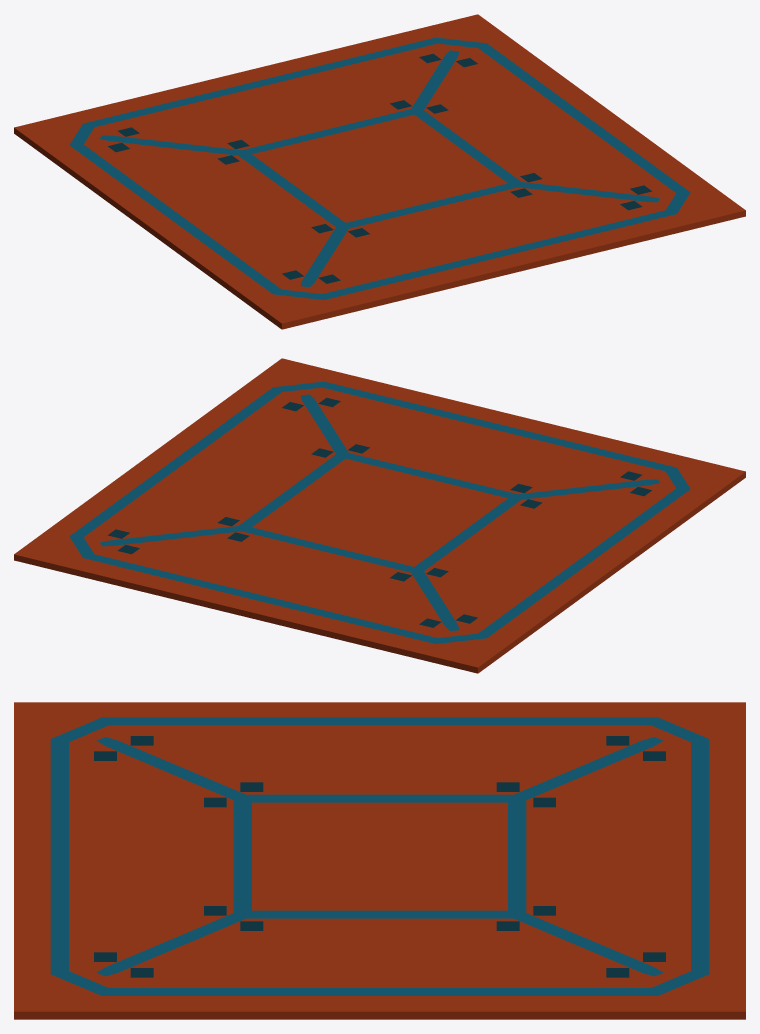
File: Tile_1-2.fbx
3 views of the same model, one above another, from view 1: azimuth 30°, elevation 25°; view 2: azimuth 150°, elevation 25°; view 3: azimuth 270°, elevation 25° (orthographic). The views are drawn at different scales.
Visible parts, largest first — view 1: Tile_1-2; view 2: Tile_1-2; view 3: Tile_1-2.
Part boxes in pixels (box(x1,y1,x2,y2)): Tile_1-2: box(14, 14, 745, 329); Tile_1-2: box(14, 358, 745, 673); Tile_1-2: box(14, 702, 745, 1019).
Size of the model in its own units: 4 by 4 by 0.051.
